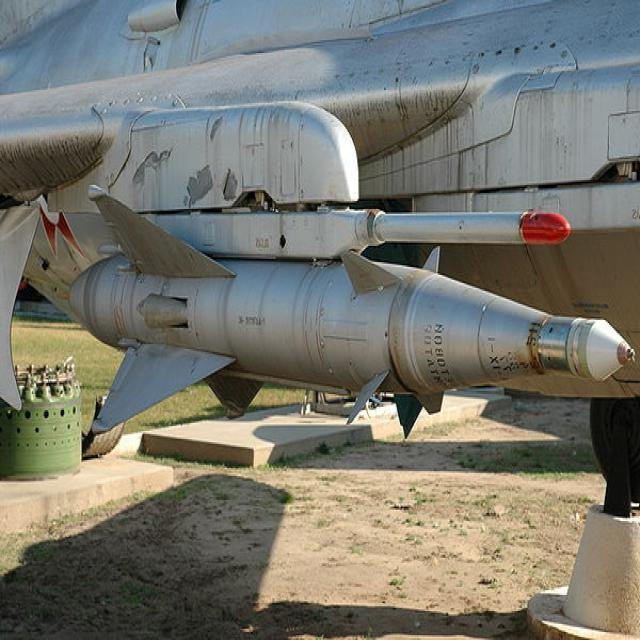missile: (64, 187, 640, 443)
